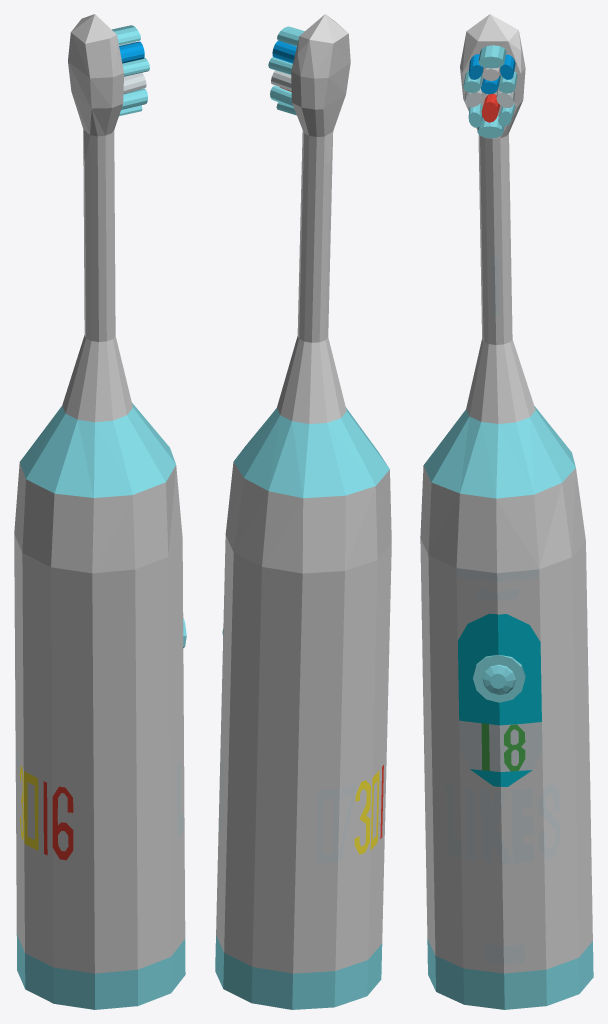
The model's file is Water brush.glb.
The picture shows the model from 3 angles, left to right: view 1: azimuth 30°, elevation 25°; view 2: azimuth 150°, elevation 25°; view 3: azimuth 270°, elevation 25°; orthographic projection.
Parts seen in each view (by area): view 1: group1638787837; view 2: group1638787837; view 3: group1638787837.
Part boxes in pixels (bbox=[...]): group1638787837: bbox=[14, 14, 186, 1009]; group1638787837: bbox=[215, 14, 391, 1009]; group1638787837: bbox=[420, 14, 593, 1009].
Size of the model in its own units: 0.2165 by 1.31 by 0.2149.
